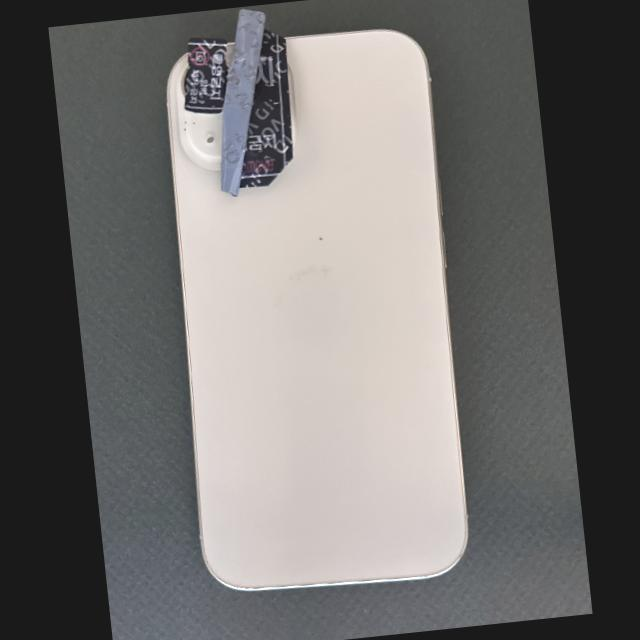lens: (223, 53, 230, 99)
phone: (166, 28, 468, 590)
sticker: (220, 9, 293, 196), (184, 36, 227, 114)
